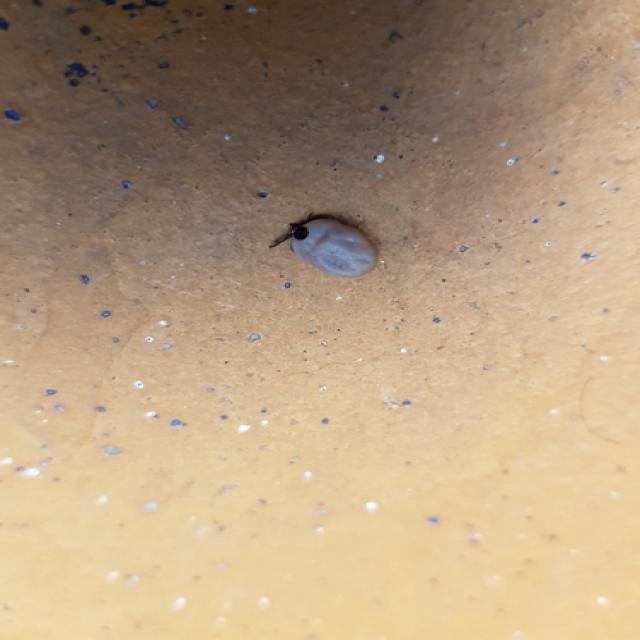Ixodes Ricinus-F-Fed: (270, 212, 382, 276)
